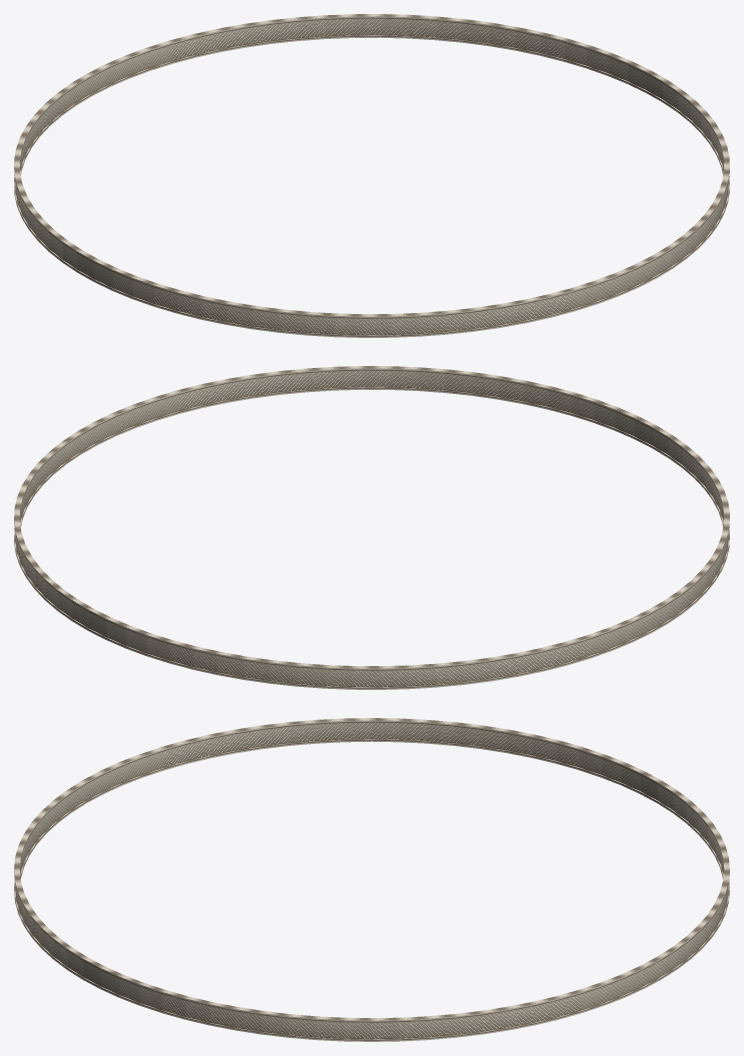
The model's file is ring_4.obj.
3 views of the same model, one above another, from view 1: azimuth 30°, elevation 25°; view 2: azimuth 150°, elevation 25°; view 3: azimuth 270°, elevation 25° (orthographic).
Size of the model in its own units: 34.66 by 1.14 by 34.66.
